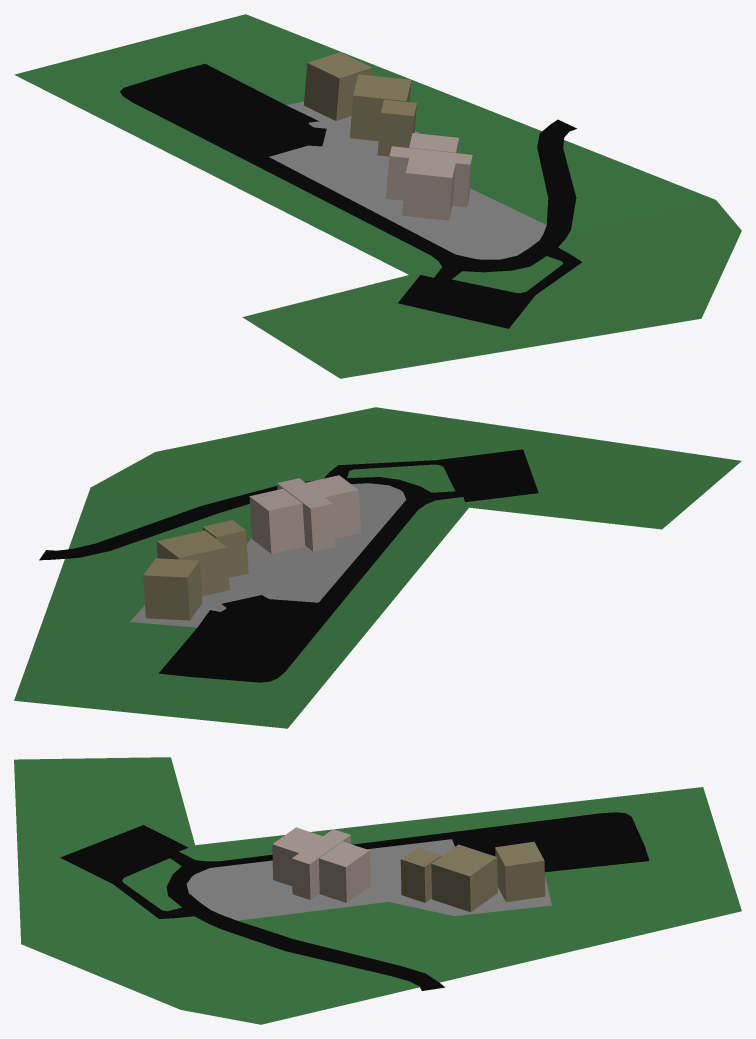
The model's file is uchurch.glb.
3 views of the same model, one above another, from view 1: azimuth 30°, elevation 25°; view 2: azimuth 150°, elevation 25°; view 3: azimuth 270°, elevation 25° (orthographic). The views are drawn at different scales.
Visible parts, largest first — view 1: Plane.006, churchlot; view 2: Plane.006, churchlot; view 3: Plane.006, churchlot.
Boxes of the visible parts, bbox=[...] form: Plane.006: bbox=[14, 14, 741, 378]; churchlot: bbox=[120, 52, 581, 328]; Plane.006: bbox=[14, 407, 741, 728]; churchlot: bbox=[39, 449, 538, 682]; Plane.006: bbox=[14, 757, 741, 1024]; churchlot: bbox=[60, 812, 649, 990].
Bounding box in the file's own units: 0.3602 × 0.0557 × 0.4922.
